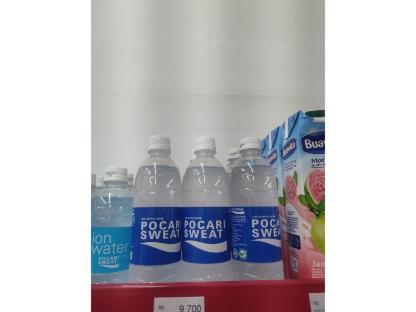Plastic Bottle: (180, 134, 232, 312), (229, 136, 282, 306), (134, 134, 180, 303), (89, 166, 131, 302)
